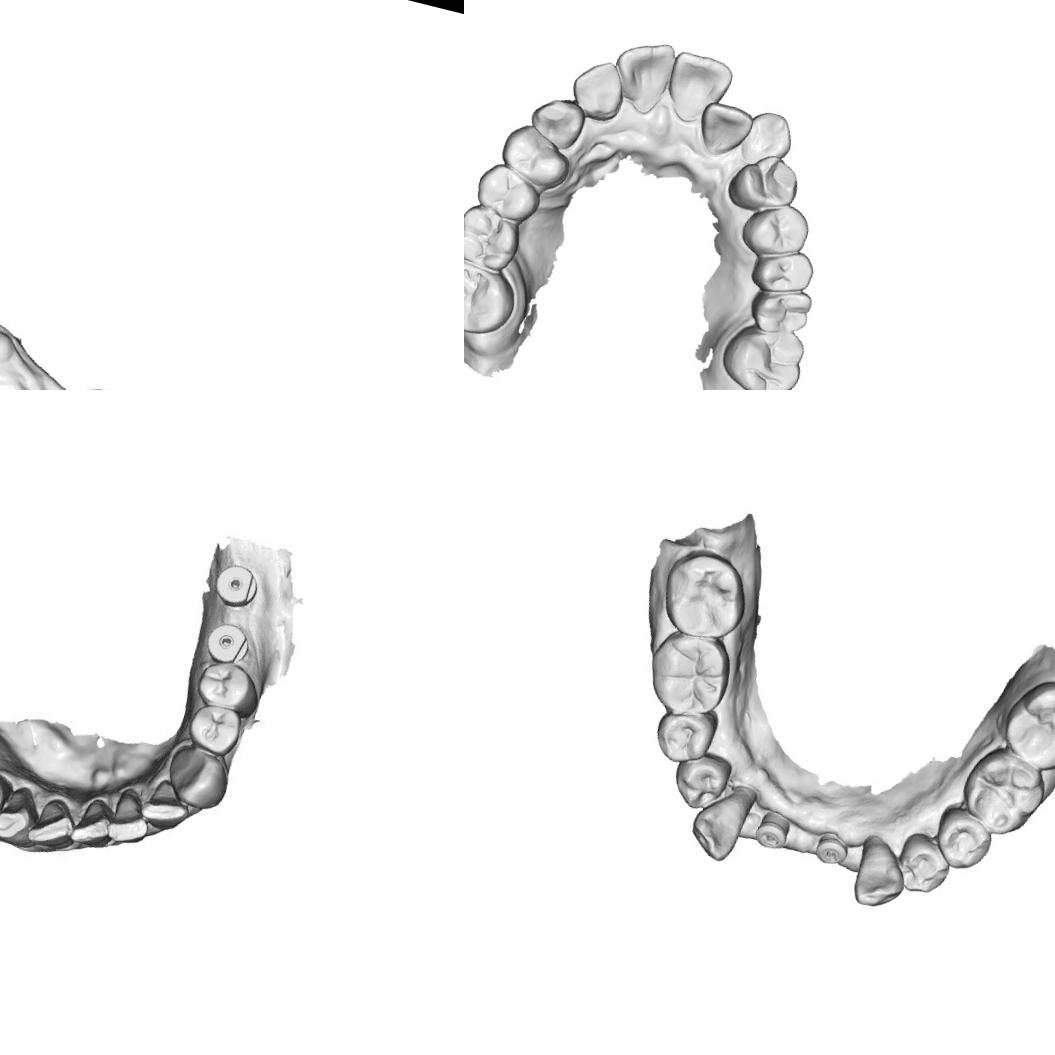canine: (684, 779, 754, 866), (846, 830, 913, 914), (160, 741, 235, 814), (732, 103, 799, 175), (522, 89, 591, 156), (0, 778, 45, 852)
implant: (209, 560, 262, 612), (201, 618, 253, 668)
implant_minus: (749, 806, 796, 855), (810, 830, 852, 868)
incisor: (656, 46, 738, 132), (602, 30, 678, 121), (564, 52, 632, 126), (691, 97, 757, 163), (136, 775, 195, 834), (24, 793, 81, 854), (102, 784, 156, 848), (68, 793, 119, 851)
molar: (952, 737, 1054, 844), (654, 542, 756, 646), (638, 623, 741, 725), (712, 314, 813, 390), (992, 670, 1055, 779), (464, 252, 523, 343), (742, 278, 818, 344), (464, 199, 526, 276)
premolar: (722, 143, 805, 221), (734, 192, 816, 268), (494, 118, 576, 193), (468, 156, 547, 228), (647, 699, 720, 772), (665, 744, 736, 816), (928, 802, 996, 876), (889, 828, 958, 900), (192, 656, 266, 718), (746, 240, 819, 302), (182, 698, 244, 758)
